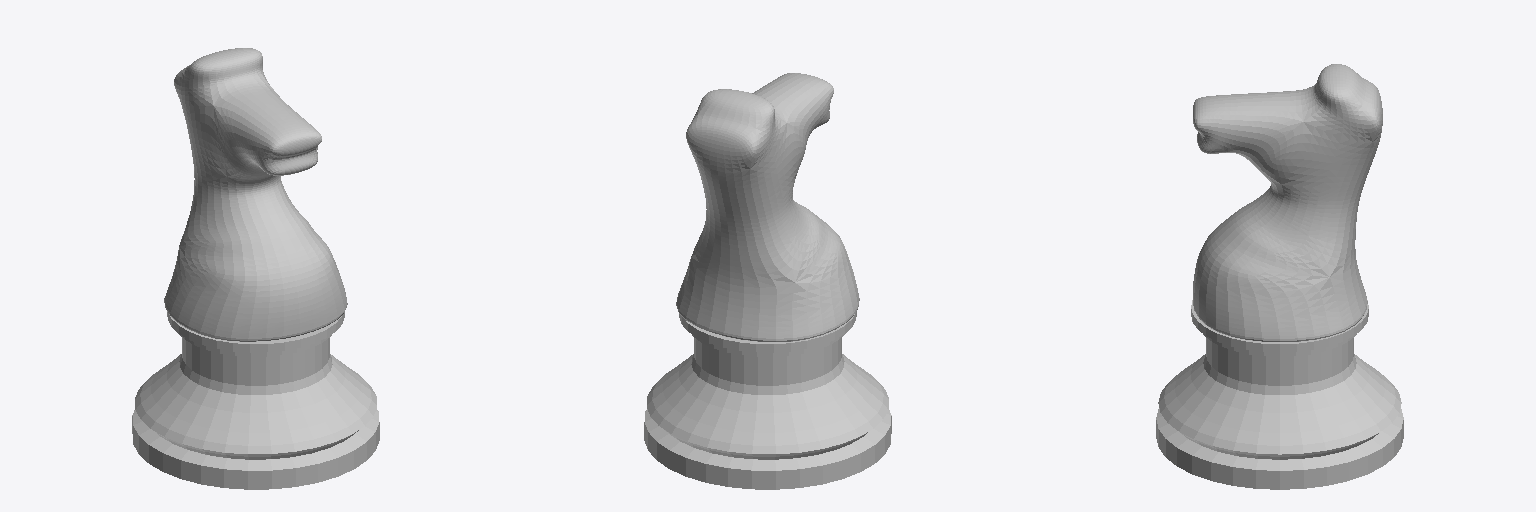
File: knight.obj
3 views of the same model, side by side, from view 1: azimuth 30°, elevation 25°; view 2: azimuth 150°, elevation 25°; view 3: azimuth 270°, elevation 25° (orthographic).
Parts seen in each view (by area): view 1: knight_Cube; view 2: knight_Cube; view 3: knight_Cube.
Part boxes in pixels (x1,y1,x2,y2): knight_Cube: (132,48,379,489); knight_Cube: (644,73,891,489); knight_Cube: (1156,64,1403,489).
Size of the model in its own units: 2 by 3.24 by 2.